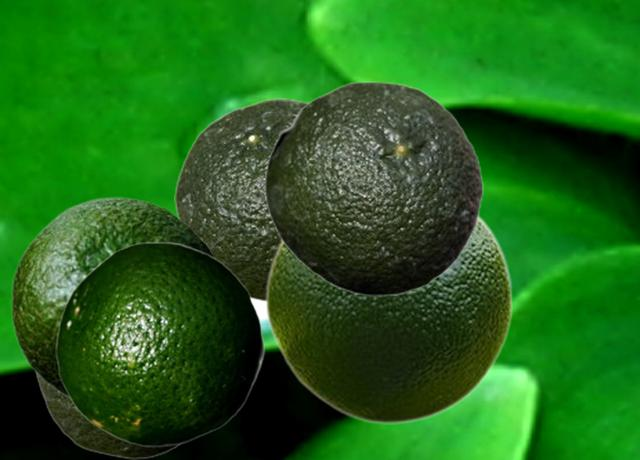calamansi: (264, 212, 513, 423), (264, 81, 483, 295), (55, 241, 264, 446), (10, 196, 218, 401), (174, 98, 310, 303), (34, 374, 182, 458)
